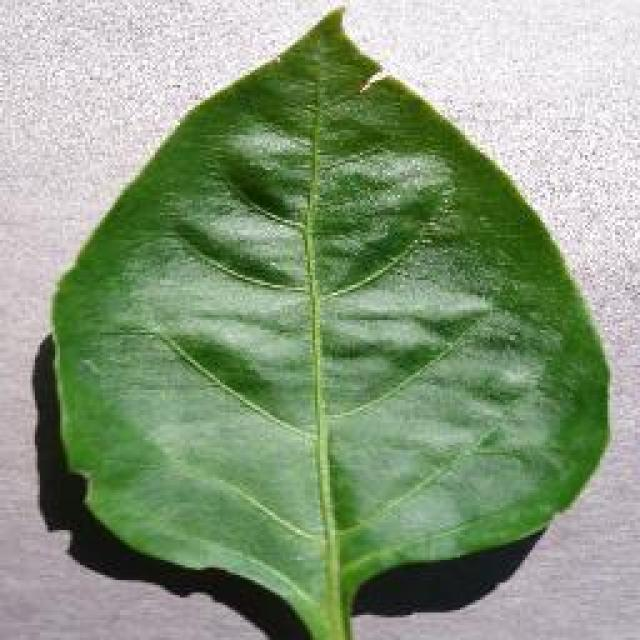Chilli_Healthy: (48, 2, 612, 638)
